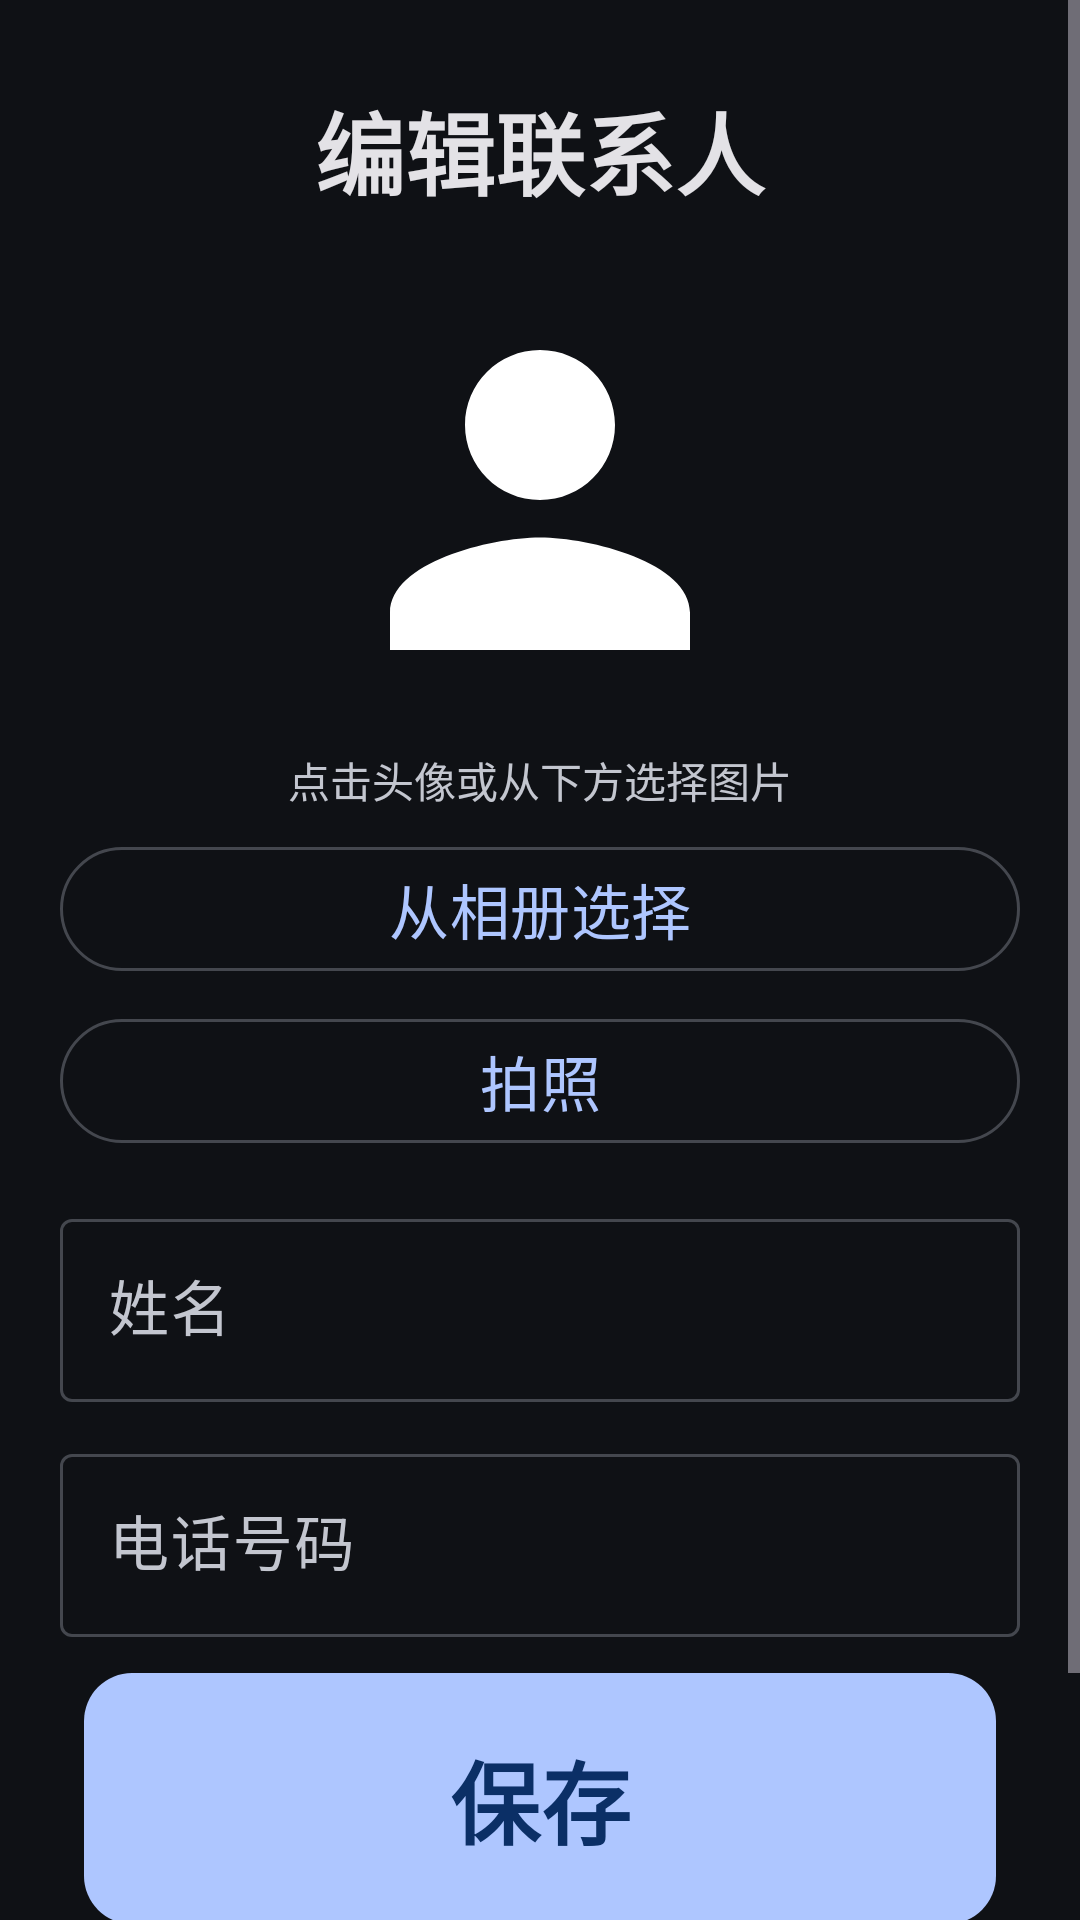

Icon bounding boxes for this 1080 x 1920 phone screenshot, format [x1, y1, x2, y2]:
person: [390, 350, 690, 650]
